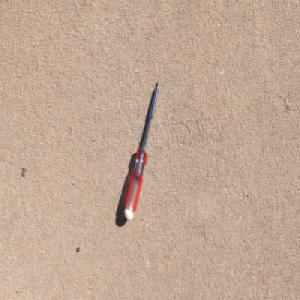Screwdriver: (123, 78, 160, 222)
